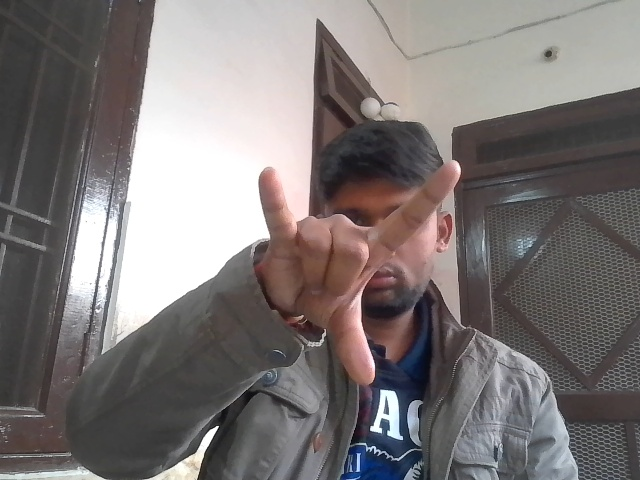ILoveYou: (250, 145, 471, 404)
